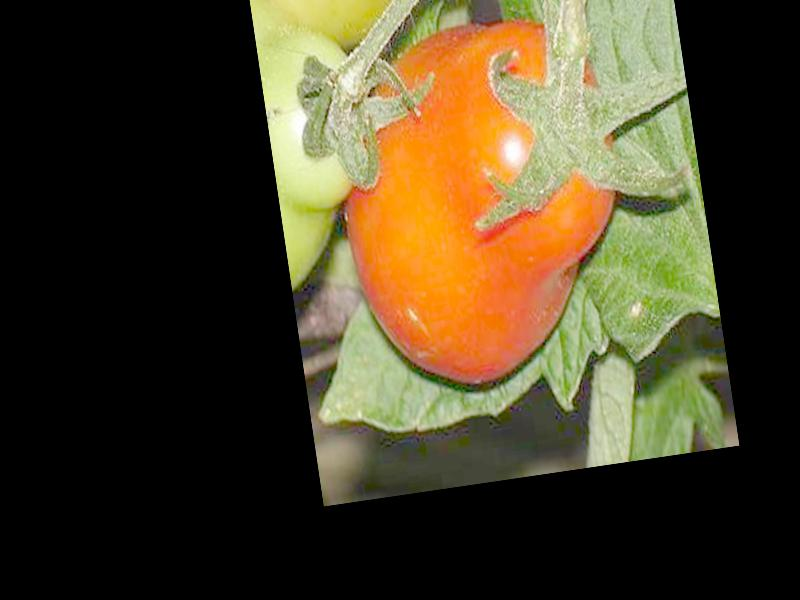Tomato: (322, 10, 643, 399)
